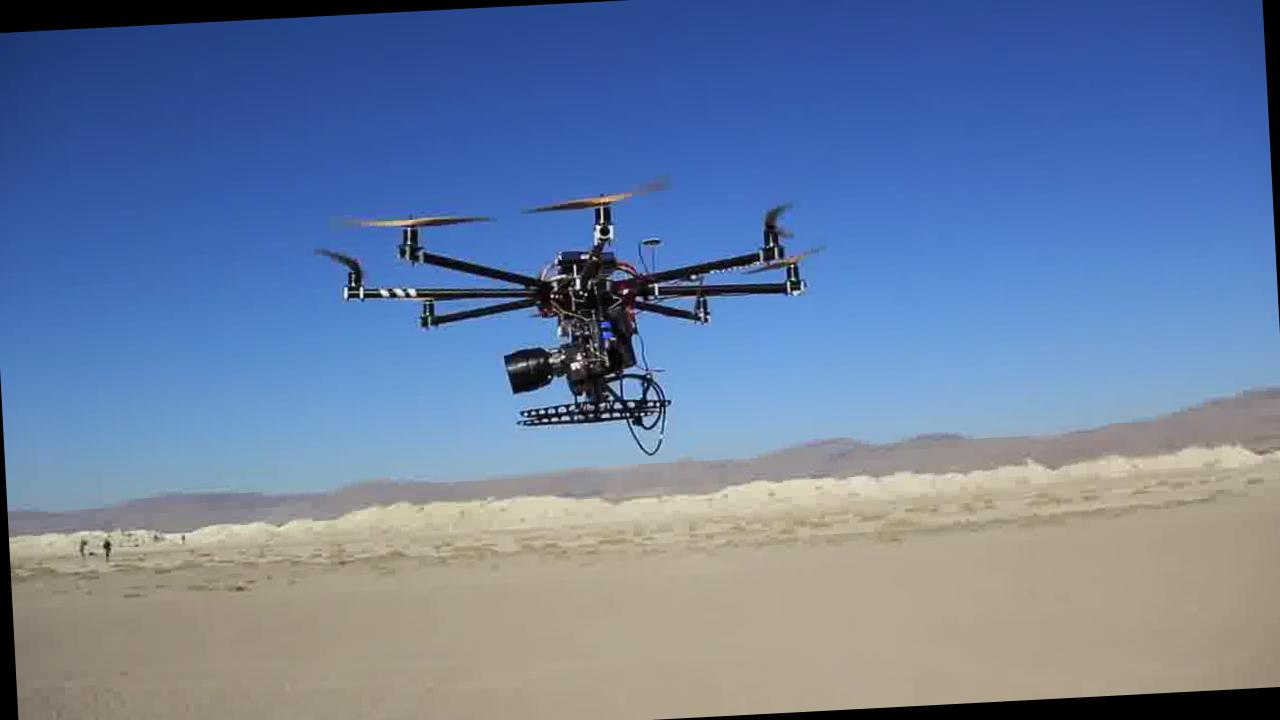drone: (326, 173, 824, 446)
